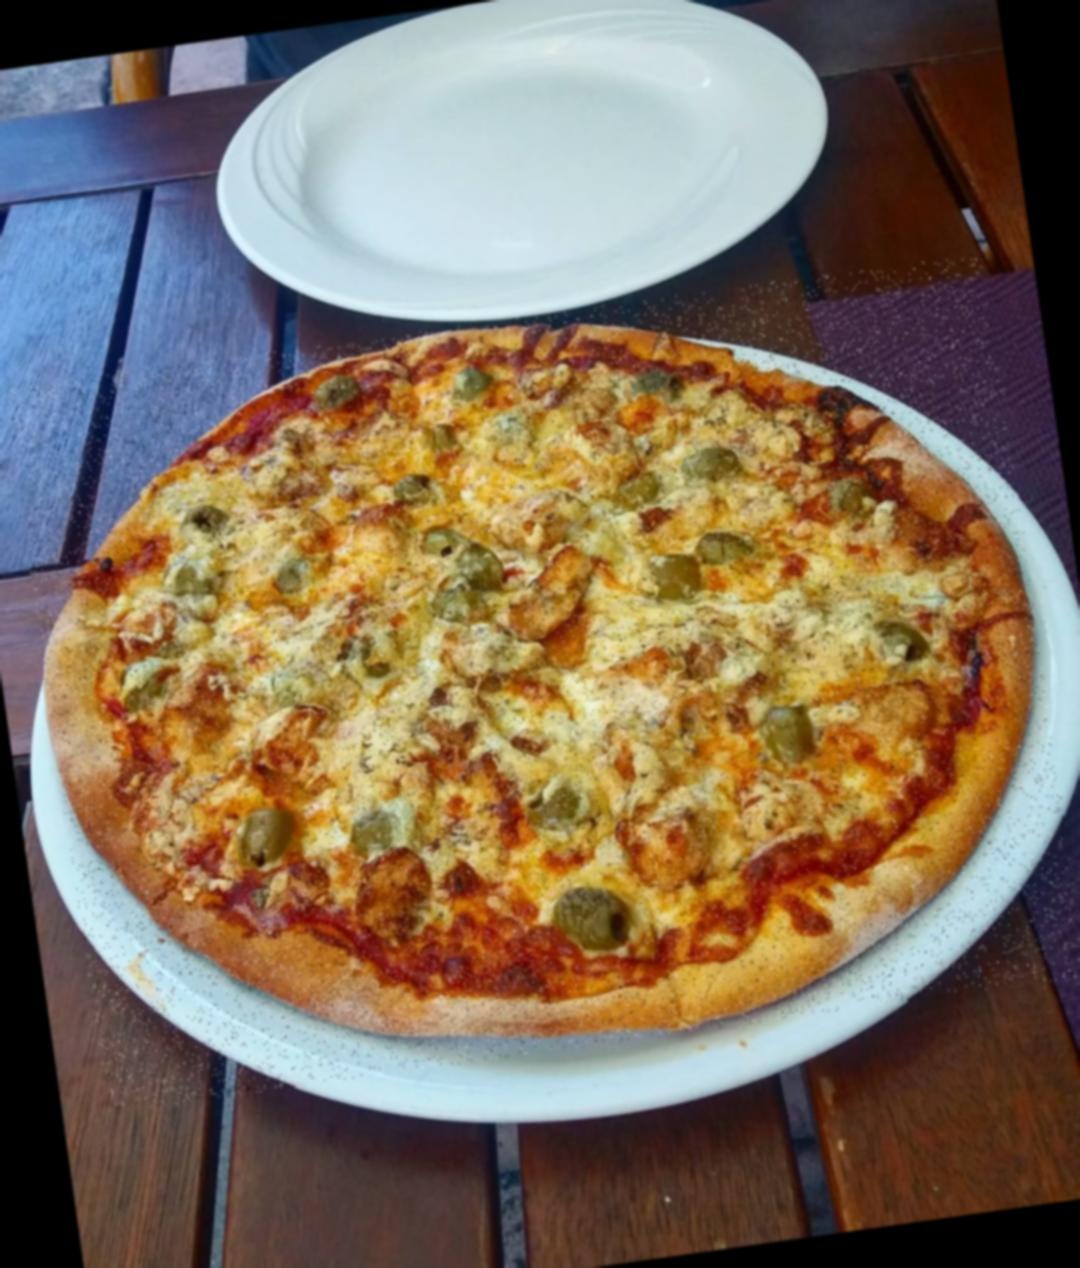Olives: (549, 878, 644, 966), (748, 696, 828, 774), (229, 800, 307, 871), (451, 529, 516, 601), (112, 650, 181, 713), (864, 608, 935, 666), (340, 629, 412, 682), (644, 552, 705, 612), (170, 499, 244, 548), (154, 552, 223, 603), (345, 802, 410, 854), (679, 443, 754, 486), (522, 782, 584, 832), (435, 579, 495, 629), (602, 471, 672, 513), (692, 524, 751, 571), (271, 547, 330, 594), (307, 371, 365, 418), (416, 518, 472, 564), (630, 365, 687, 409), (385, 465, 437, 512), (422, 420, 470, 467), (452, 359, 501, 401), (825, 477, 867, 524)
Pizza: (5, 252, 1080, 1113)
